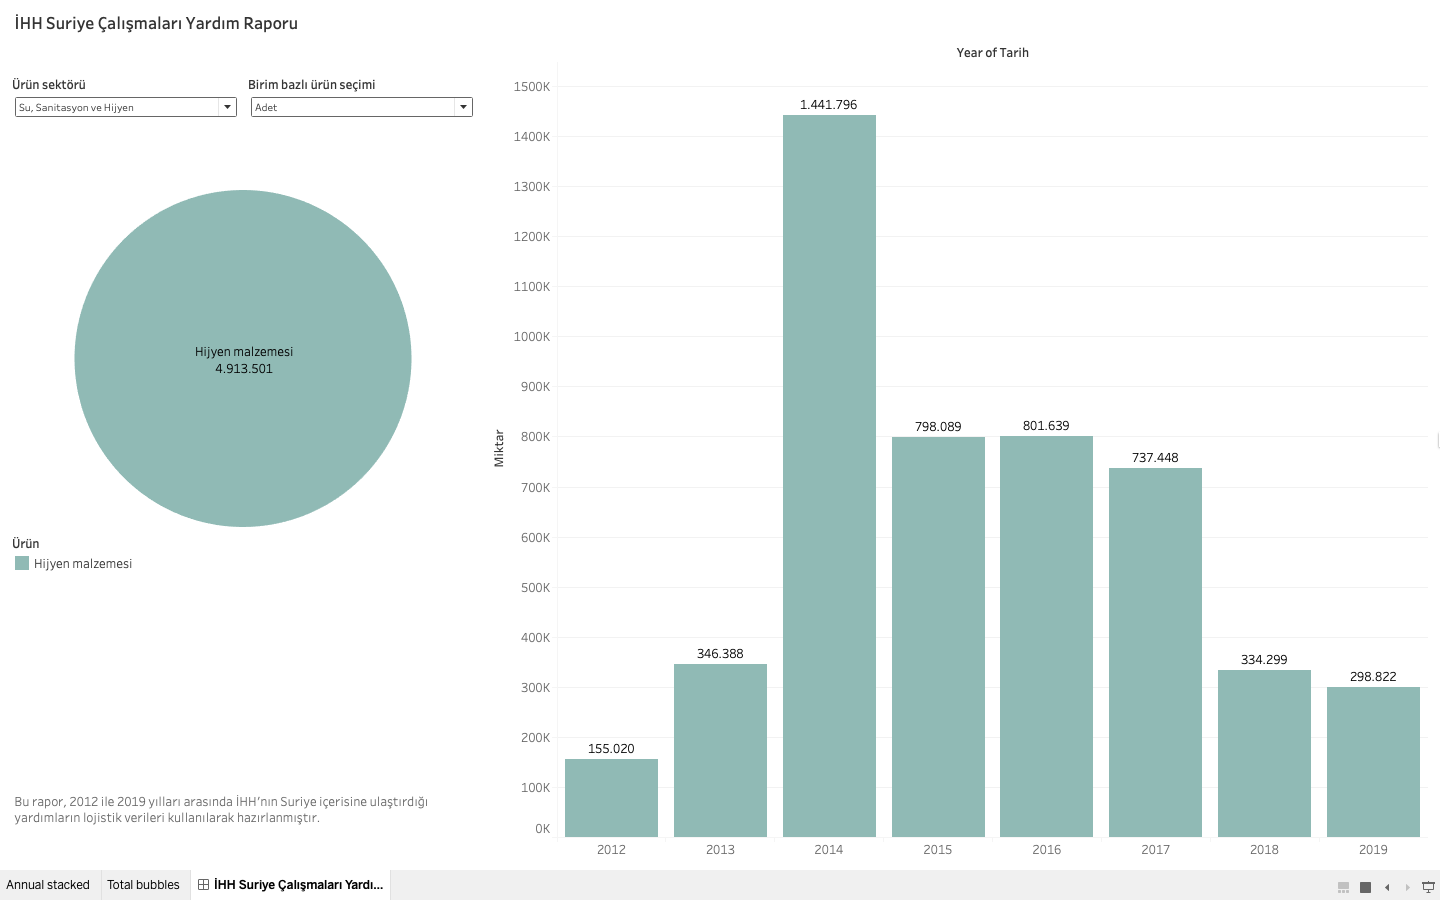

The dashboard page shown, as its layout file describes it:
{"tool":"tableau","page":{"name":"İHH Suriye Çalışmaları Yardım Raporu","canvas":[1000,1000],"units":"permille","ordinal":0},"visuals":[{"type":"title","box":[6.5,9.9,987,37.1]},{"type":"blank","box":[6.5,47,326.8,39.4]},{"type":"worksheet","title":"Annual stacked","mark":"Bar","rows":["Miktar"],"cols":["Tarih"],"box":[333.3,47,660.2,943.1]},{"type":"filter","title":"Total bubbles","param":"[federated.1mxeqqh1x6fw6u15vb8dy1q2r8ap].[none:Sektör:nk]","box":[6.5,86.4,163.3,90.4]},{"type":"filter","title":"Total bubbles","param":"[federated.1mxeqqh1x6fw6u15vb8dy1q2r8ap].[none:Birim:nk]","box":[169.8,86.4,163.5,90.4]},{"type":"blank","box":[6.5,176.8,326.8,39.6]},{"type":"worksheet","title":"Total bubbles","mark":"Circle","box":[6.5,216.4,326.8,394.6]},{"type":"legend","title":"Total bubbles","param":"[federated.1mxeqqh1x6fw6u15vb8dy1q2r8ap].[none:Ürün:nk]","box":[6.5,611.1,326.8,258.9]},{"type":"text","box":[6.5,869.9,326.8,120.2]}]}

Visuals, with their boxes on the dashboard's canvas, which has no fixed pixel size, in thousandths of its width and height (x1, y1, x2, y2). These are canvas units, not pixel positions in the 1440x900 screenshot, which may show the page scaled, cropped or inside an application window:
title: [6, 10, 994, 47]
blank: [6, 47, 333, 86]
"Annual stacked" worksheet (Bar marks): [333, 47, 994, 990]
"Total bubbles" filter: [6, 86, 170, 177]
"Total bubbles" filter: [170, 86, 333, 177]
blank: [6, 177, 333, 216]
"Total bubbles" worksheet (Circle marks): [6, 216, 333, 611]
"Total bubbles" legend: [6, 611, 333, 870]
text: [6, 870, 333, 990]
